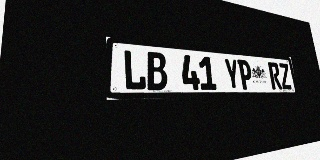1: (198, 56, 217, 90)
4: (180, 54, 200, 90)
B: (146, 51, 168, 90)
L: (123, 49, 147, 90)
P: (237, 59, 254, 90)
R: (268, 62, 283, 89)
Y: (223, 58, 241, 90)
Z: (278, 63, 292, 89)
